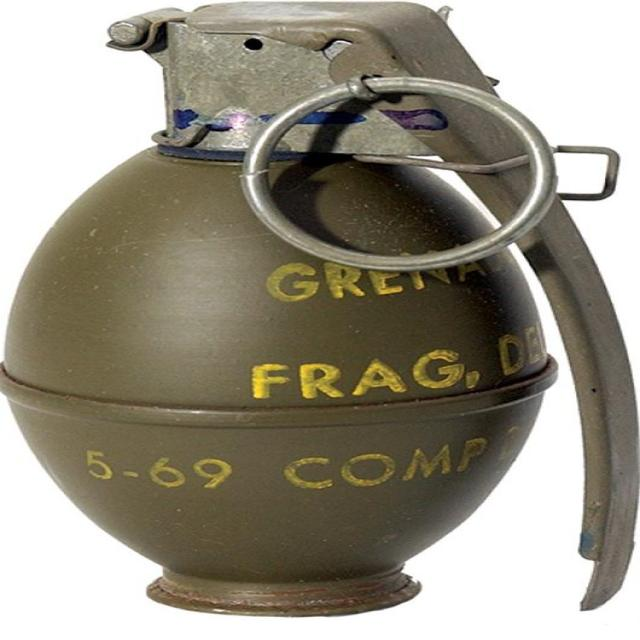grenade: (1, 3, 640, 620)
